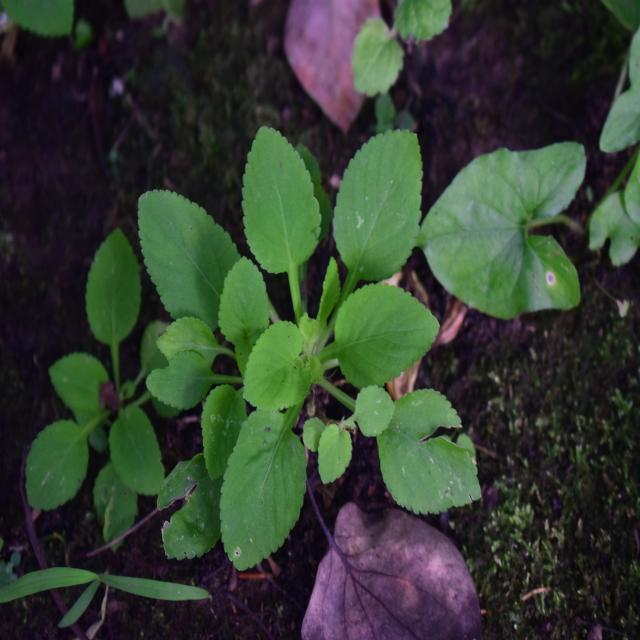Viola: (141, 140, 493, 556)
